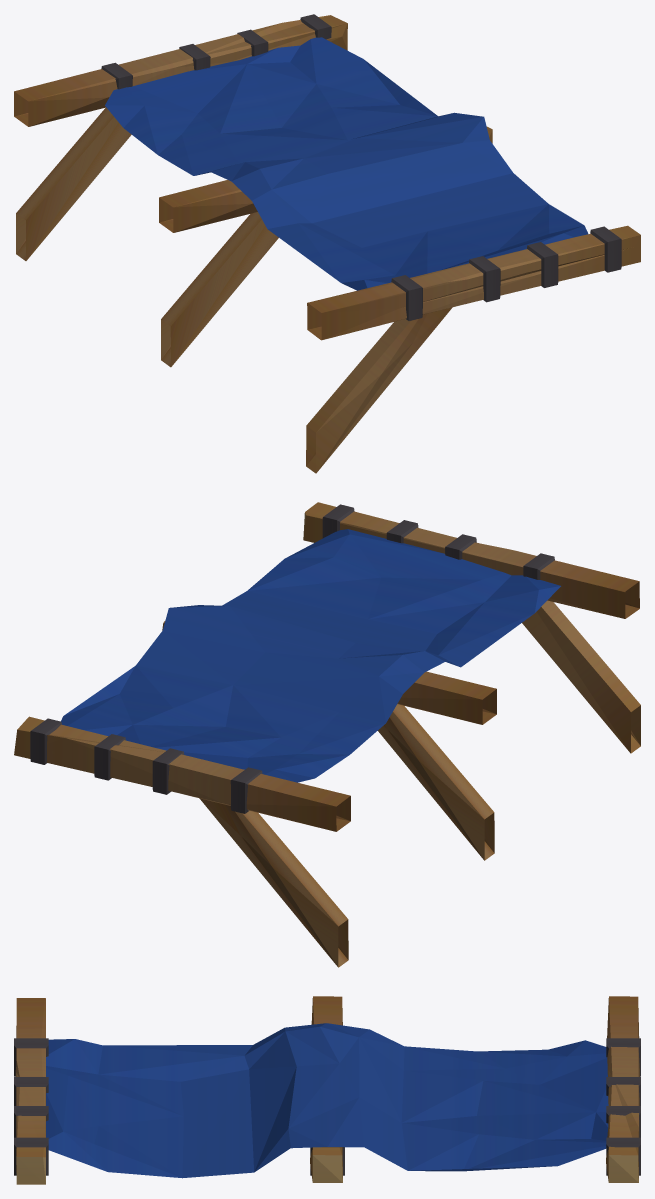
Rendered from Fabrics_2.fbx.
The picture shows the model from 3 angles, top to bottom: view 1: azimuth 30°, elevation 25°; view 2: azimuth 150°, elevation 25°; view 3: azimuth 270°, elevation 25°; orthographic projection. The views are drawn at different scales.
Visible parts, largest first — view 1: polySurface9747; view 2: polySurface9747; view 3: polySurface9747.
Boxes of the visible parts, box(x1,y1,x2,y2) form: polySurface9747: box(14, 14, 640, 473); polySurface9747: box(14, 502, 640, 967); polySurface9747: box(14, 996, 640, 1184).
Size of the model in its own units: 308 by 160 by 508.
